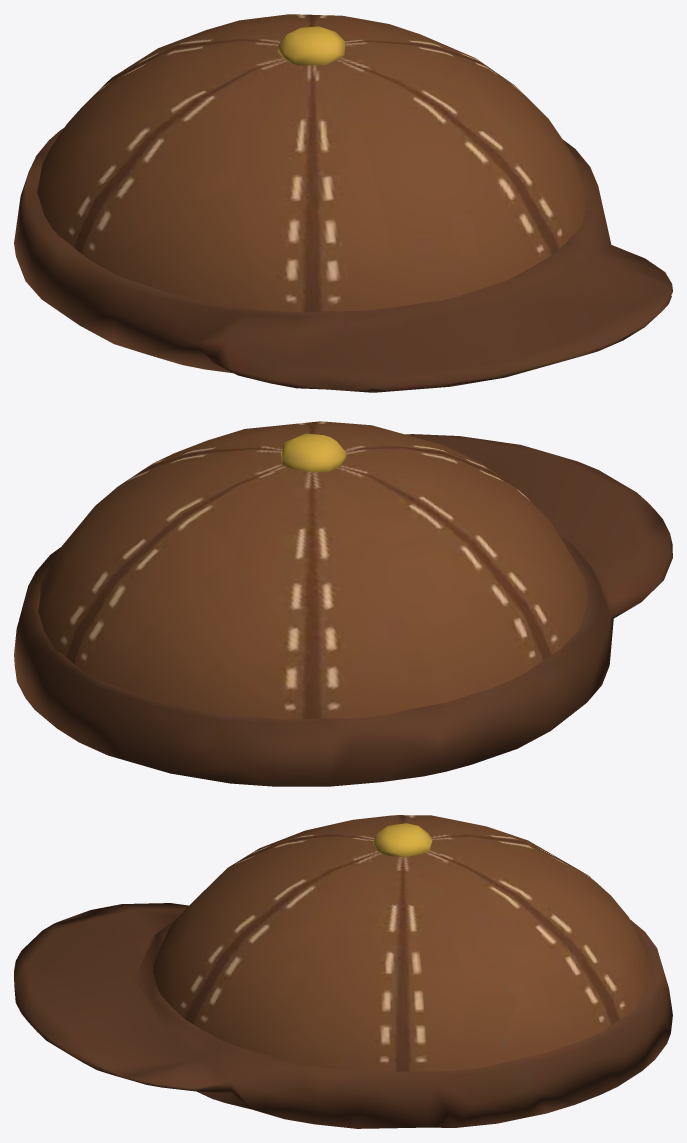
File: leather-cap.glb
3 views of the same model, one above another, from view 1: azimuth 30°, elevation 25°; view 2: azimuth 150°, elevation 25°; view 3: azimuth 270°, elevation 25° (orthographic). The views are drawn at different scales.
Visible parts, largest first — view 1: crown; view 2: crown; view 3: crown.
Boxes of the visible parts, <box> form: crown: <box>14,14,672,392</box>; crown: <box>14,421,672,786</box>; crown: <box>14,815,672,1128</box>.
Size of the model in its own units: 0.4262 by 0.1745 by 0.5437.
1 material, 1 textured.
